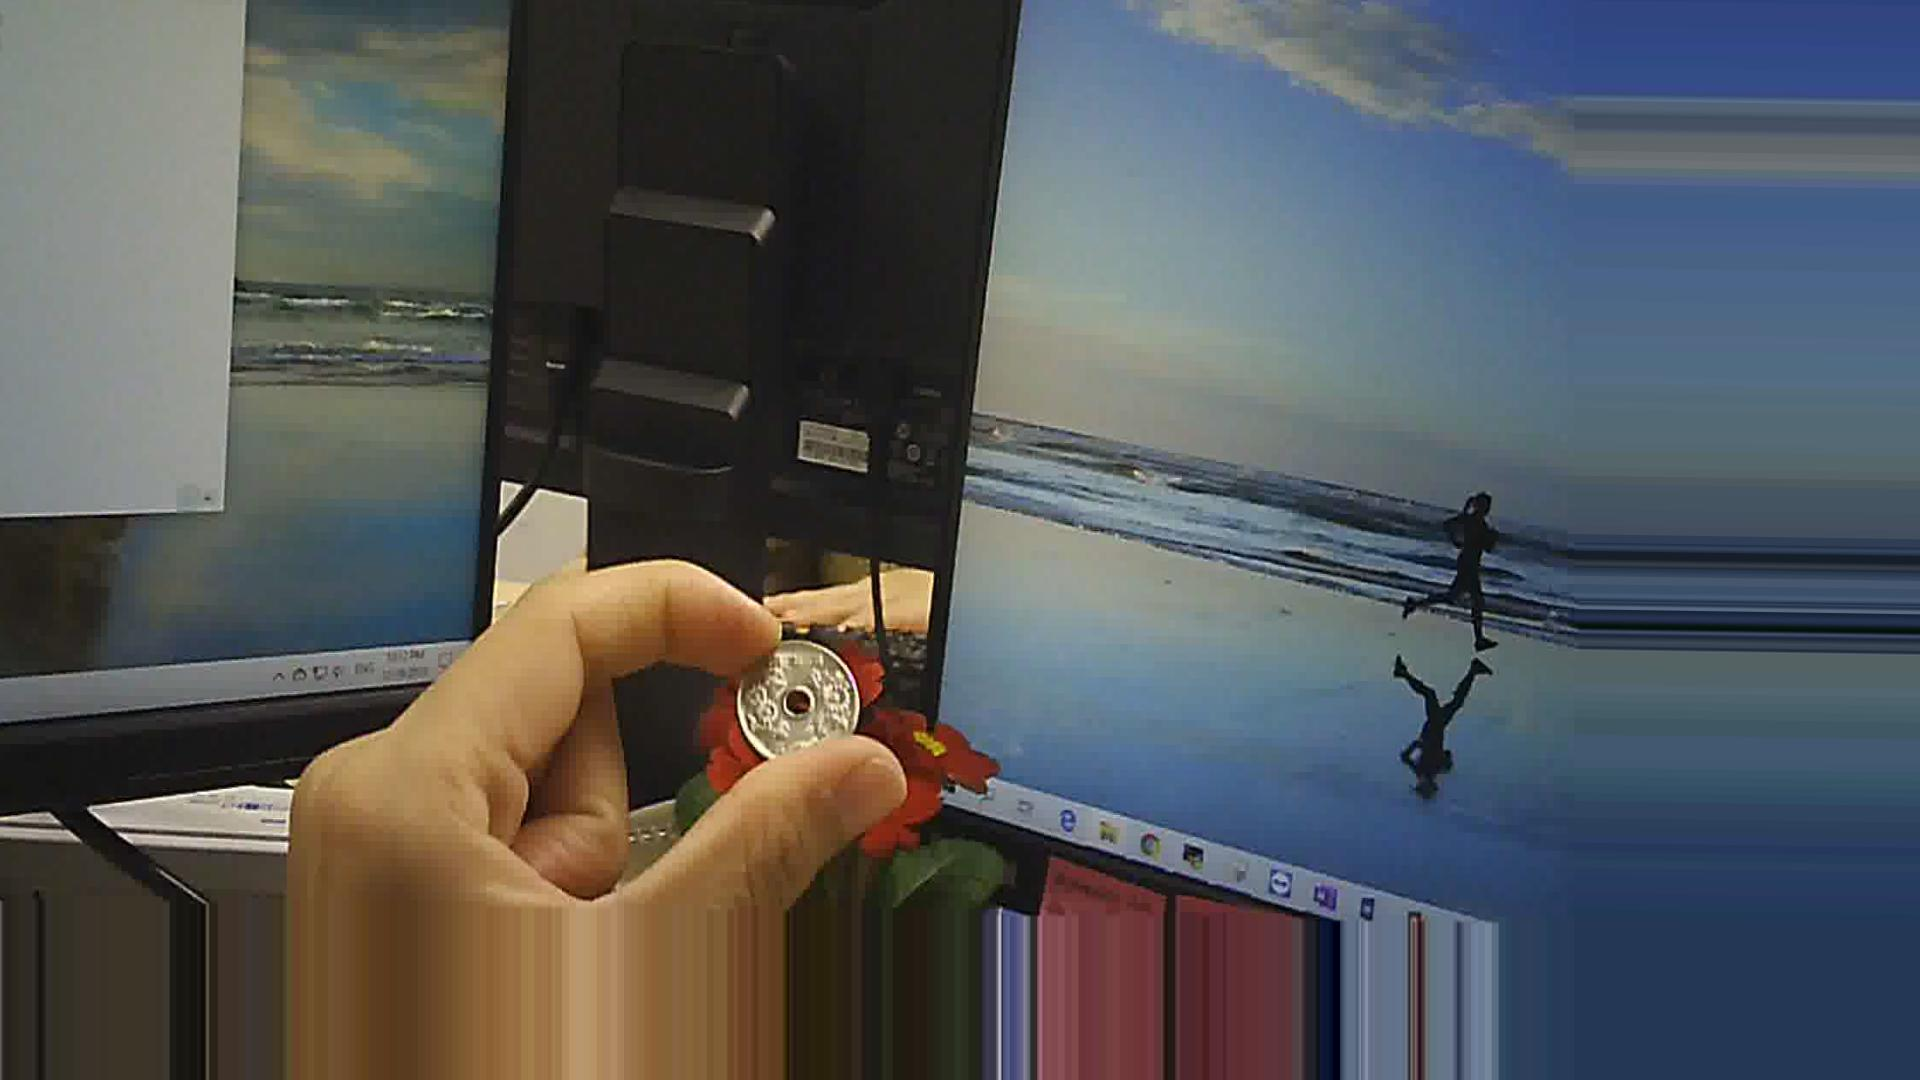50 Yen: (731, 636, 860, 765)
